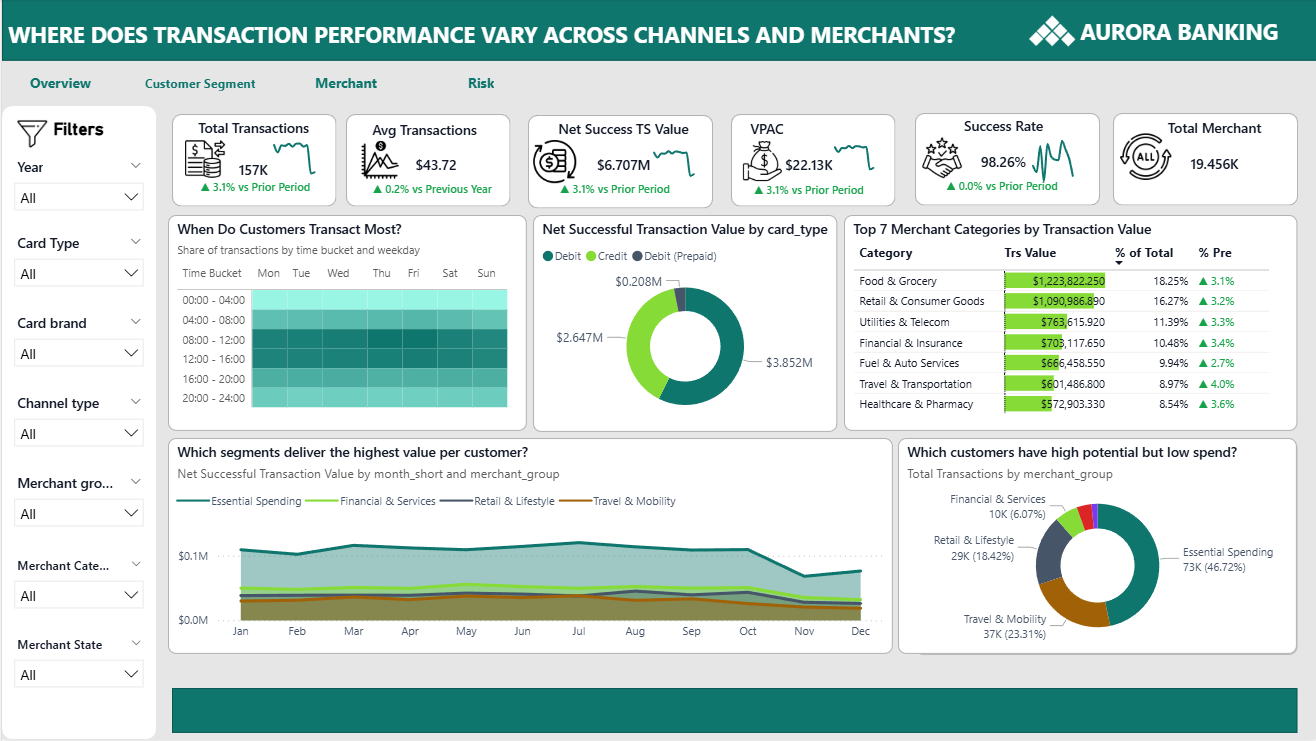

This screenshot's page, from the dashboard's own definition file:
{"tool":"powerbi","page":{"name":"Transaction & Merchant Performance","canvas":[1280,720],"ordinal":2},"visuals":[{"type":"actionButton","title":"btn_campaign","box":[171.8,64.6,163.5,34.6],"z":0,"group":"g17"},{"type":"shape","box":[0,103.6,150,616],"z":0,"group":"g1"},{"type":"shape","box":[1080.9,110.7,180,90],"z":0,"group":"g6"},{"type":"shape","box":[887.3,110.9,180,90],"z":0,"group":"g8"},{"type":"shape","box":[165.2,111.8,160,90],"z":0,"group":"g7"},{"type":"shape","box":[335.2,111.8,160,90],"z":0,"group":"g3"},{"type":"shape","box":[709.2,111.8,160,90],"z":0,"group":"g2"},{"type":"shape","box":[511,112.7,180,90.8],"z":0,"group":"g4"},{"type":"donutChart","fields":{"Category":["dim_card.card_type"],"Y":["_mesure.Net Successful Transaction Value"]},"box":[516.9,210.1,296.2,211],"z":0},{"type":"actionButton","title":"btn_overview","box":[11.3,64.6,130.8,35],"z":1000,"group":"g17"},{"type":"lineChart","fields":{"Category":["dim_date.month"],"Y":["_mesure.VPAC"]},"box":[791.9,113.9,80.9,66.4],"z":1000,"group":"g2"},{"type":"cardVisual","title":"Success Rate","fields":{"Data":["_mesure.Transaction Success Rate"]},"box":[904.7,114.5,139.1,77.3],"z":1000,"group":"g8"},{"type":"cardVisual","title":"Total Transactions","fields":{"Data":["_mesure.Total Transactions"]},"box":[182.7,116.3,125.5,78.2],"z":1000,"group":"g7"},{"type":"cardVisual","title":"Total Merchant","fields":{"Data":["CountNonNull(dim_merchant.merchant_location)"]},"box":[1109.7,116.8,139.1,77.3],"z":1000,"group":"g6"},{"type":"cardVisual","title":"Net Success TS Value","fields":{"Data":["_mesure.Net Successful Transaction Value"]},"box":[534.7,117.5,139.1,78],"z":1000,"group":"g4"},{"type":"cardVisual","title":"Avg Transactions","fields":{"Data":["Avg(fact_transactions.amount)"]},"box":[355.6,118.2,134.5,75.5],"z":1000,"group":"g3"},{"type":"slicer","fields":{"Values":["dim_date.date.Variation.Date Hierarchy.Year"]},"box":[6.4,154.5,136.4,57.3],"z":1000,"group":"g1"},{"type":"actionButton","title":"btn_insight","box":[706.8,63,130,35],"z":1500,"group":"g17"},{"type":"actionButton","title":"btn_customer","box":[534.6,64.6,142.6,34.6],"z":2000,"group":"g17"},{"type":"textbox","box":[7.3,110.9,135.5,34.5],"z":2000,"group":"g1"},{"type":"cardVisual","title":"VPAC","fields":{"Data":["_mesure.VPAC"]},"box":[722.8,117.5,124.5,80],"z":2000,"group":"g2"},{"type":"cardVisual","title":"VPAC","fields":{"Data":["_mesure.Success Rate Change Label"]},"box":[882.8,150.9,180,58.2],"z":2000,"group":"g8"},{"type":"cardVisual","title":"VPAC","fields":{"Data":["_mesure.Net Successful Transactions Value Change Label"]},"box":[506.5,153.1,180,58.7],"z":2000,"group":"g4"},{"type":"cardVisual","title":"VPAC","fields":{"Data":["_mesure.Total Transactions Change Label"]},"box":[161.8,156.3,170,50],"z":2000,"group":"g7"},{"type":"cardVisual","title":"VPAC","fields":{"Data":["_mesure.Avg Transaction Value Change Label"]},"box":[331.9,159.1,175.5,47.3],"z":2000,"group":"g3"},{"type":"columnChart","title":"Which segments show higher risk signals?","fields":{"Y":["_mesure.Failed Transaction Rate"],"Category":["customer_churn_base.credit_score_band"],"Series":["dim_customer.credit_score_band"]},"box":[888.2,429.1,371.8,209.1],"z":2000},{"type":"actionButton","title":"btn_product ","box":[364.9,64.6,139.9,34.6],"z":3000,"group":"g17"},{"type":"lineChart","fields":{"Category":["dim_date.month"],"Y":["_mesure.Total Transactions"]},"box":[246.3,116.3,83.6,65.5],"z":3000,"group":"g7"},{"type":"lineChart","fields":{"Category":["dim_date.month"],"Y":["_mesure.Transaction Success Rate"]},"box":[983.8,121.8,82.7,61.8],"z":3000,"group":"g8"},{"type":"lineChart","fields":{"Category":["dim_date.month"],"Y":["_mesure.Net Successful Transaction Value"]},"box":[615.6,124,82.7,62.4],"z":3000,"group":"g4"},{"type":"cardVisual","title":"VPAC","fields":{"Data":["_mesure.VPAC Change Label"]},"box":[699.2,157.5,171.8,52.7],"z":3000,"group":"g2"},{"type":"slicer","fields":{"Values":["dim_card.card_type"]},"box":[6.4,228.1,136.4,60.9],"z":3000,"group":"g1"},{"type":"slicer","fields":{"Values":["dim_card.card_brand"]},"box":[6.4,306.3,136.4,60.9],"z":4000,"group":"g1"},{"type":"lineChart","title":"Which segments deliver the highest value per customer?","fields":{"Series":["dim_mcc.merchant_group"],"Y":["_mesure.Net Successful Transaction Value"],"Category":["dim_date.year","dim_date.month_short","dim_date.day","dim_date.day_name_short"]},"box":[161.8,427.3,704.5,210],"z":4000},{"type":"slicer","fields":{"Values":["fact_transactions.channel_type"]},"box":[6.4,383.6,136.4,61.8],"z":5000,"group":"g1"},{"type":"tableEx","title":"Top 7 Merchant Categories by Transaction Value","fields":{"Values":["dim_mcc.merchant_category","_mesure.Net Successful Transaction Value","_mesure.% of Total Transaction Value","_mesure.Transaction Value Change Label"]},"box":[819.1,210,440.9,210],"z":6000},{"type":"slicer","fields":{"Values":["dim_mcc.merchant_group"]},"box":[6.4,461.8,136.4,60.9],"z":6000,"group":"g1"},{"type":"slicer","fields":{"Values":["dim_merchant.merchant_state"]},"box":[6.4,619.1,136.4,58.2],"z":6500,"group":"g1"},{"type":"shape","box":[0,0,1280,60],"z":7000},{"type":"slicer","fields":{"Values":["dim_mcc.merchant_category"]},"box":[6.4,542.7,136.4,58.2],"z":7000,"group":"g1"},{"type":"textbox","box":[1,14.6,932.8,67.1],"z":8000},{"type":"shape","box":[165.5,670,1094.5,43.6],"z":9000},{"type":"textbox","box":[1043.6,11.7,236.4,39.9],"z":11000,"group":"g16"},{"type":"pivotTable","title":"When Do Customers Transact Most?","fields":{"Rows":["fact_transactions.Time Bucket "],"Columns":["dim_date.day_name_short"],"Values":["_mesure.Total Transactions"]},"box":[161.8,210,349.1,210],"z":11000},{"type":"group","id":"g1","title":"Filter page","box":[0,103.6,150,616],"z":13000},{"type":"group","id":"g2","title":"kpi VPAC","box":[699.2,111.8,173.6,98.2],"z":14000,"group":"g12"},{"type":"donutChart","title":"Which customers have high potential but low spend?","fields":{"Y":["_mesure.Total Transactions"],"Category":["dim_mcc.merchant_group"]},"box":[871.8,427.3,388.2,210],"z":14000},{"type":"group","id":"g3","title":"kpi total cus","box":[331.9,111.8,175.5,94.5],"z":15000,"group":"g10"},{"type":"group","id":"g4","title":"kpi net txs","box":[506.5,112.7,191.8,99.1],"z":15000,"group":"g11"},{"type":"image","box":[0,116.4,59.1,29.1],"z":15000},{"type":"group","id":"g5","title":"Group 2","box":[988.2,0,291.8,63.2],"z":16000},{"type":"group","id":"g6","title":"kpi txs rate","box":[1080.9,110.7,180,90],"z":16000,"group":"g14"},{"type":"group","id":"g7","title":"kpi txs ","box":[161.8,111.8,170,94.5],"z":16000,"group":"g9"},{"type":"group","id":"g8","title":"kpi txs rate","box":[882.8,110.9,184.5,98.2],"z":17000,"group":"g13"},{"type":"group","id":"g9","title":"Group 3","box":[161.8,111.8,170,94.5],"z":17000},{"type":"group","id":"g10","title":"Group 4","box":[331.9,111.8,175.5,94.5],"z":18000},{"type":"group","id":"g11","title":"Group 5","box":[506.5,112.7,191.8,99.1],"z":19000},{"type":"group","id":"g12","title":"Group 6","box":[699.2,111.8,173.6,98.2],"z":20000},{"type":"image","box":[176.3,136.3,43.6,39.1],"z":20003,"group":"g9"},{"type":"image","box":[346.7,131.6,42.7,50],"z":20004,"group":"g10"},{"type":"group","id":"g13","title":"Group 7","box":[882.8,110.9,184.5,98.2],"z":21000},{"type":"image","box":[512.9,136.6,48.2,42.2],"z":21000,"group":"g11"},{"type":"image","box":[988.2,0,67.7,63.6],"z":21007,"group":"g16"},{"type":"group","id":"g14","title":"Group 8","box":[1080.9,110.7,180,90],"z":22000},{"type":"image","box":[709.2,138.2,60.9,39.1],"z":22000,"group":"g12"},{"type":"group","id":"g15","title":"Group 9","box":[988.2,0,291.8,63.2],"z":22001,"group":"g5"},{"type":"group","id":"g16","title":"Group 10","box":[988.2,0,291.8,63.2],"z":22001,"group":"g15"},{"type":"group","id":"g17","title":"Group 1","box":[11.3,63,825.5,36.6],"z":22001},{"type":"image","box":[894.6,129.1,39.1,50],"z":23000,"group":"g13"},{"type":"image","box":[1086.4,128.1,51.8,50],"z":24000,"group":"g14"}]}

Visuals, with their boxes in screenshot pixels (x1, y1, x2, y2), scaled from the page's 1280x720 canvas onto the 1316x741 screenshot:
"btn_campaign" actionButton: 177:66:345:102
shape: 0:107:154:740
shape: 1111:114:1296:207
shape: 912:114:1097:207
shape: 170:115:334:208
shape: 345:115:509:208
shape: 729:115:894:208
shape: 525:116:710:209
donutChart - dim_card.card_type x _mesure.Net Successful Transaction Value: 531:216:836:433
"btn_overview" actionButton: 12:66:146:103
lineChart - dim_date.month x _mesure.VPAC: 814:117:897:186
"Success Rate" cardVisual: 930:118:1073:197
"Total Transactions" cardVisual: 188:120:317:200
"Total Merchant" cardVisual: 1141:120:1284:200
"Net Success TS Value" cardVisual: 550:121:693:201
"Avg Transactions" cardVisual: 366:122:504:199
slicer - dim_date.date.Variation.Date Hierarchy.Year: 7:159:147:218
"btn_insight" actionButton: 727:65:860:101
"btn_customer" actionButton: 550:66:696:102
textbox: 8:114:147:150
"VPAC" cardVisual: 743:121:871:203
"VPAC" cardVisual: 908:155:1093:215
"VPAC" cardVisual: 521:158:706:218
"VPAC" cardVisual: 166:161:341:212
"VPAC" cardVisual: 341:164:522:212
"Which segments show higher risk signals?" columnChart: 913:442:1295:657
"btn_product " actionButton: 375:66:519:102
lineChart - dim_date.month x _mesure.Total Transactions: 253:120:339:187
lineChart - dim_date.month x _mesure.Transaction Success Rate: 1011:125:1096:189
lineChart - dim_date.month x _mesure.Net Successful Transaction Value: 633:128:718:192
"VPAC" cardVisual: 719:162:895:216
slicer - dim_card.card_type: 7:235:147:297
slicer - dim_card.card_brand: 7:315:147:378
"Which segments deliver the highest value per customer?" lineChart: 166:440:891:656
slicer - fact_transactions.channel_type: 7:395:147:458
"Top 7 Merchant Categories by Transaction Value" tableEx: 842:216:1295:432
slicer - dim_mcc.merchant_group: 7:475:147:538
slicer - dim_merchant.merchant_state: 7:637:147:697
shape: 0:0:1315:62
slicer - dim_mcc.merchant_category: 7:559:147:618
textbox: 1:15:960:84
shape: 170:690:1295:734
textbox: 1073:12:1315:53
"When Do Customers Transact Most?" pivotTable: 166:216:525:432
"Filter page" group: 0:107:154:740
"kpi VPAC" group: 719:115:897:216
"Which customers have high potential but low spend?" donutChart: 896:440:1295:656
"kpi total cus" group: 341:115:522:212
"kpi net txs" group: 521:116:718:218
image: 0:120:61:150
"Group 2" group: 1016:0:1315:65
"kpi txs rate" group: 1111:114:1296:207
"kpi txs " group: 166:115:341:212
"kpi txs rate" group: 908:114:1097:215
"Group 3" group: 166:115:341:212
"Group 4" group: 341:115:522:212
"Group 5" group: 521:116:718:218
"Group 6" group: 719:115:897:216
image: 181:140:226:181
image: 356:135:400:187
"Group 7" group: 908:114:1097:215
image: 527:141:577:184
image: 1016:0:1086:65
"Group 8" group: 1111:114:1296:207
image: 729:142:792:182
"Group 9" group: 1016:0:1315:65
"Group 10" group: 1016:0:1315:65
"Group 1" group: 12:65:860:103
image: 920:133:960:184
image: 1117:132:1170:183
